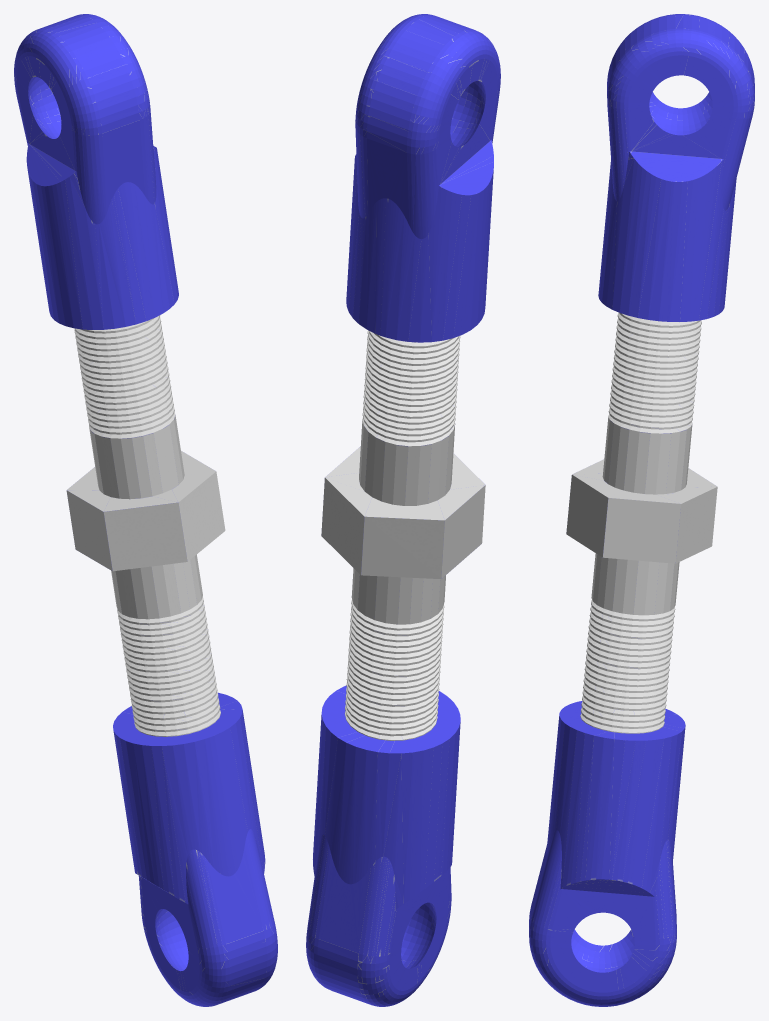
Rendered from Turnbuckle_Servo.dae.
The picture shows the model from 3 angles, left to right: view 1: azimuth 30°, elevation 25°; view 2: azimuth 150°, elevation 25°; view 3: azimuth 270°, elevation 25°; orthographic projection. The views are drawn at different scales.
Visible parts, largest first — view 1: node; view 2: node; view 3: node.
Part boxes in pixels (<box>): node: <box>14,14,277,1006</box>; node: <box>306,14,500,1006</box>; node: <box>529,14,754,1006</box>.
Size of the model in its own units: 0.00978 by 0.0488 by 0.0107.
1 material, 1 textured.
